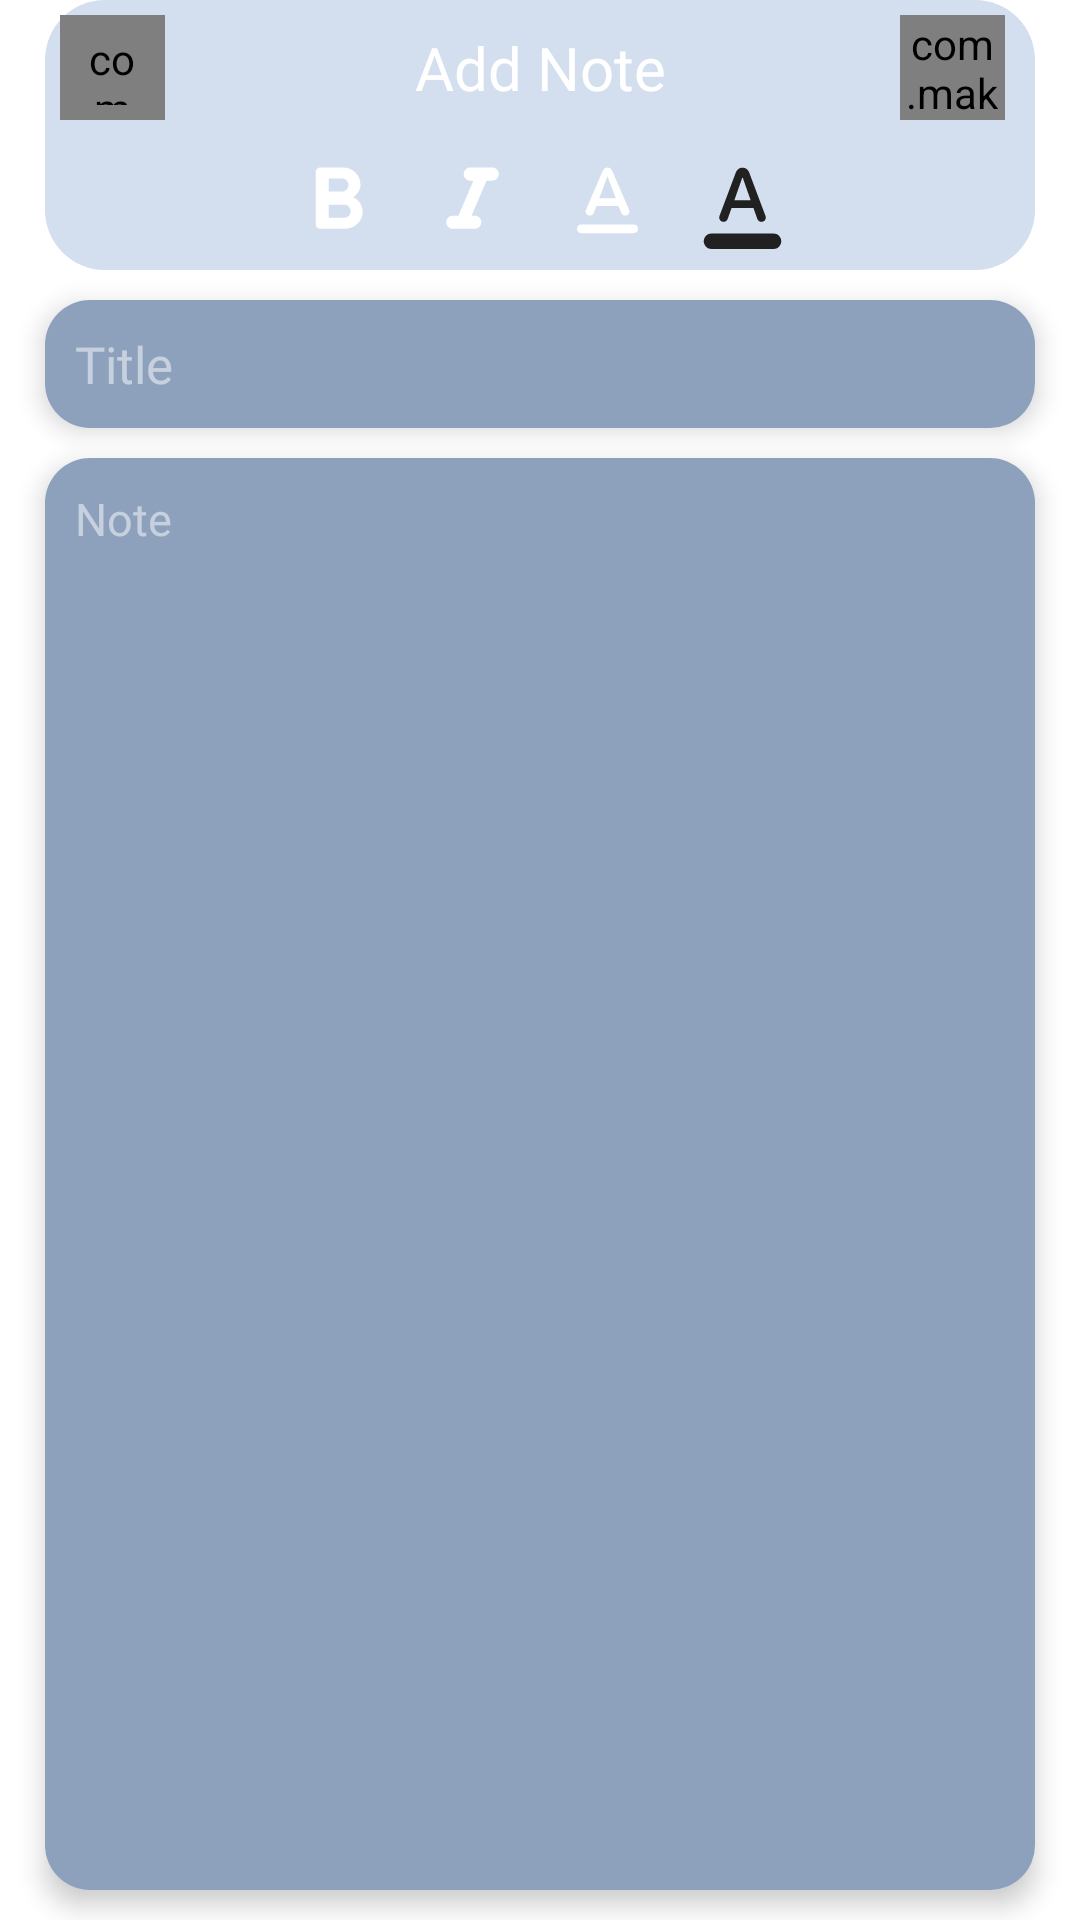

Icons on this 1080px×1920px Android screen, each with the point to tap as point (x, y):
format italic: point (472, 198)
